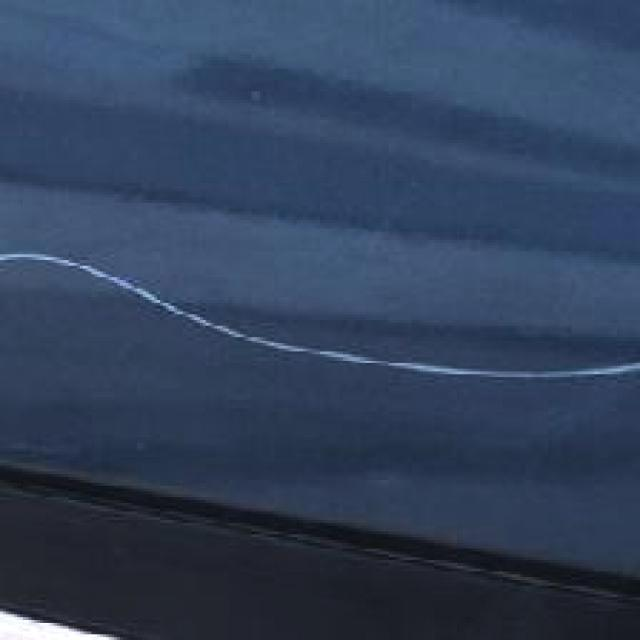minor: (47, 230, 623, 395)
